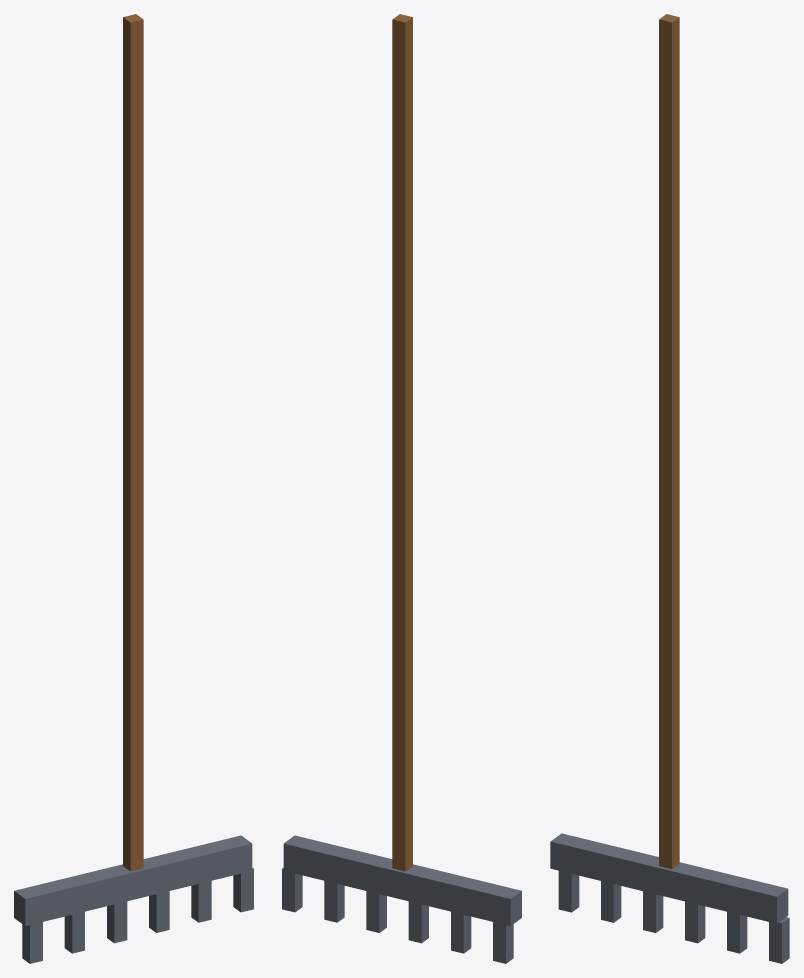
Rendered from rake.glb.
The picture shows the model from 3 angles, left to right: view 1: azimuth 30°, elevation 25°; view 2: azimuth 150°, elevation 25°; view 3: azimuth 330°, elevation 25°; orthographic projection.
Parts seen in each view (by area): view 1: rake; view 2: rake; view 3: rake.
Part boxes in pixels (box(x1,y1,x2,y2)): rake: box(14, 14, 253, 963); rake: box(282, 14, 521, 963); rake: box(550, 14, 789, 963).
Size of the model in its own units: 0.355 by 1.35 by 0.03.
1 material, 1 textured.
